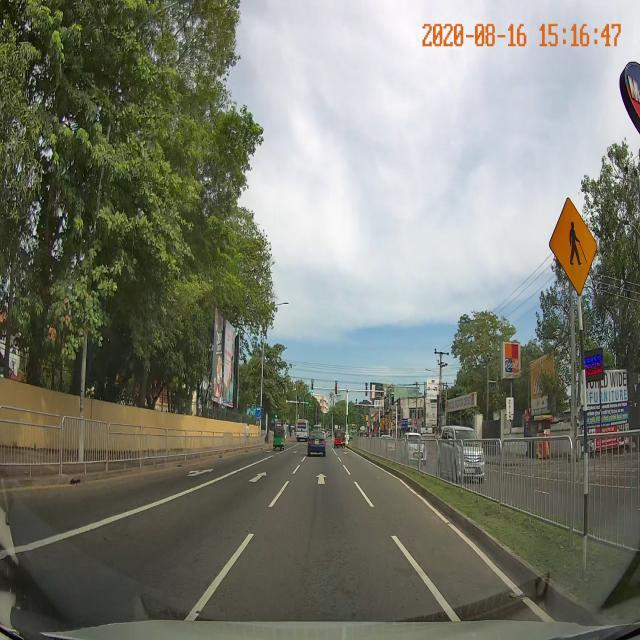diamond: (268, 466, 368, 492)
